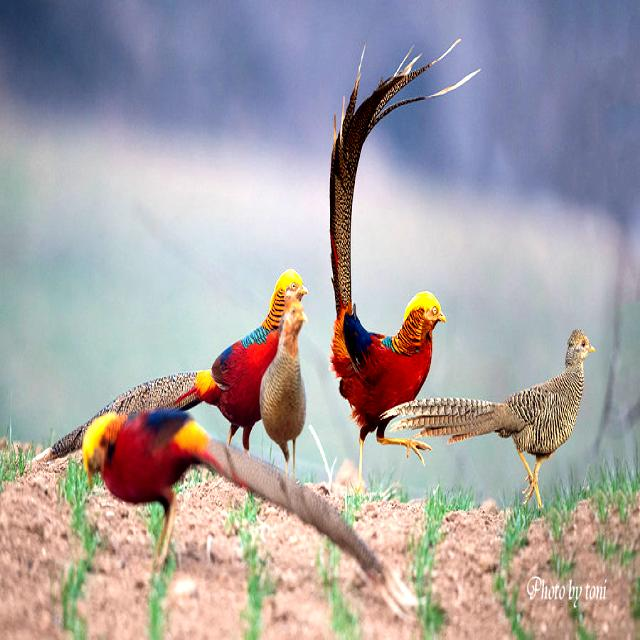Chrysolophus pictus feather: (331, 61, 480, 317), (210, 440, 416, 617), (100, 373, 200, 414), (36, 422, 90, 459)
